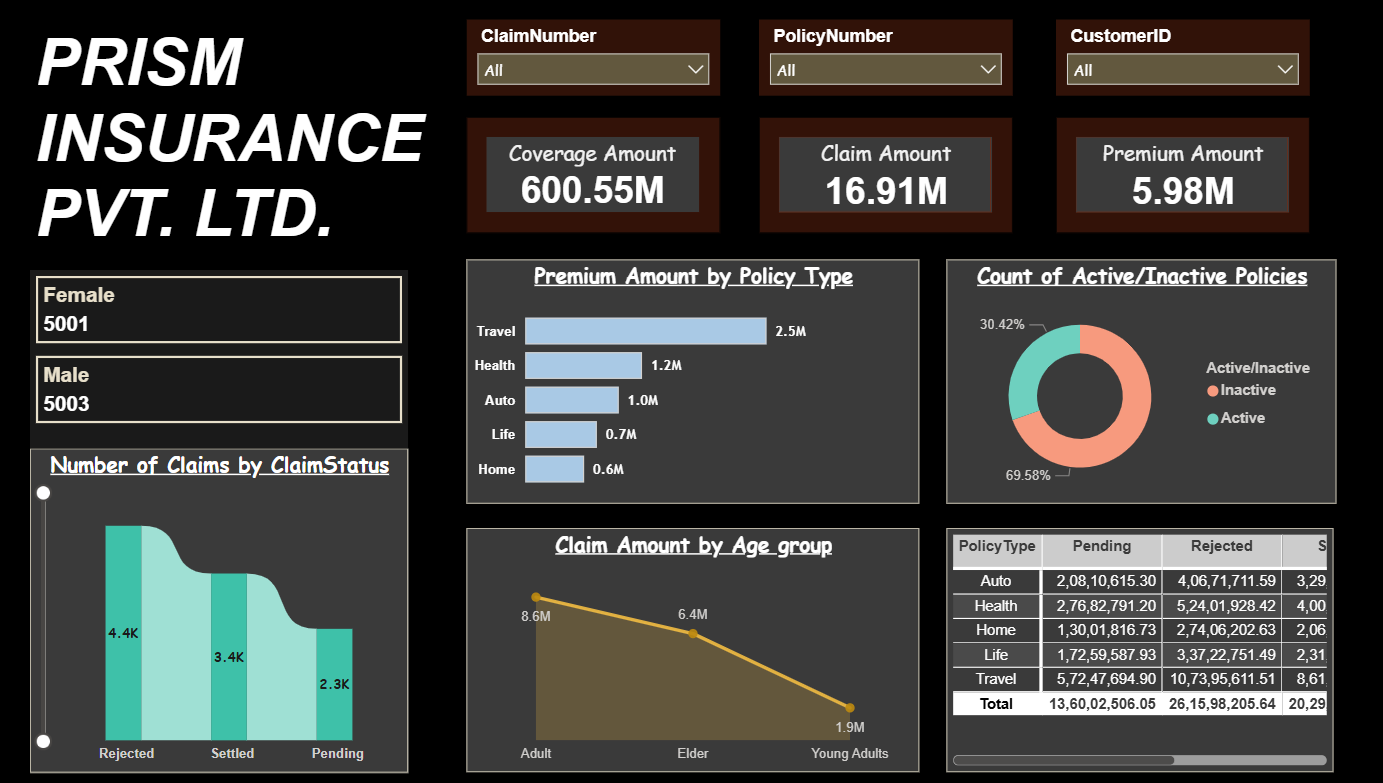

The dashboard page shown, as its layout file describes it:
{"tool":"powerbi","page":{"name":"Page 1","canvas":[1280,720],"ordinal":0},"visuals":[{"type":"slicer","fields":{"Values":["InsuranceData.ClaimNumber"]},"box":[431.5,20.4,228.9,68.5],"z":0},{"type":"slicer","fields":{"Values":["InsuranceData.CustomerID"]},"box":[962.2,20.4,228.9,68.5],"z":1000},{"type":"slicer","fields":{"Values":["InsuranceData.PolicyNumber"]},"box":[695.4,20.4,228.9,68.5],"z":2000},{"type":"textbox","box":[37.9,20.4,393.6,215.8],"z":3000},{"type":"cardVisual","fields":{"Data":["Sum(InsuranceData.CoverageAmount)"]},"box":[431.5,107.9,228.9,105],"z":4000},{"type":"cardVisual","fields":{"Data":["Sum(InsuranceData.PremiumAmount)"]},"box":[962.2,107.9,228.9,105],"z":5000},{"type":"cardVisual","fields":{"Data":["Sum(InsuranceData.ClaimAmount)"]},"box":[695.4,107.9,228.9,105],"z":6000},{"type":"multiRowCard","fields":{"Values":["InsuranceData.Gender","CountNonNull(InsuranceData.Gender)"]},"box":[37.8,246,340.6,160.9],"z":7000},{"type":"ribbonChart","title":"Number of Claims by ClaimStatus","fields":{"Category":["InsuranceData.ClaimStatus"],"Y":["CountNonNull(InsuranceData.ClaimStatus)"]},"box":[37.8,406.9,340.6,292],"z":9000},{"type":"barChart","title":"Premium Amount by Policy Type","fields":{"Y":["Sum(InsuranceData.PremiumAmount)"],"Category":["InsuranceData.PolicyType"]},"box":[431.5,236.2,408.2,220.1],"z":10000},{"type":"lineChart","title":"Claim Amount by Age group","fields":{"Category":["InsuranceData.Age group"],"Y":["Sum(InsuranceData.ClaimAmount)"]},"box":[431.5,478.2,408.2,220.1],"z":10001},{"type":"donutChart","title":"Count of Active/Inactive Policies","fields":{"Category":["InsuranceData.Active/Inactive"],"Y":["CountNonNull(InsuranceData.Active/Inactive)"]},"box":[863.7,236.6,351.4,220.3],"z":10002},{"type":"pivotTable","fields":{"Values":["Sum(InsuranceData.CoverageAmount)"],"Rows":["InsuranceData.PolicyType"],"Columns":["InsuranceData.ClaimStatus"]},"box":[863.7,478.5,348.7,220.3],"z":10003}]}

Visuals, with their boxes in screenshot pixels (x1, y1, x2, y2), scaled from the page's 1280x720 canvas onto the 1383x783 screenshot:
slicer - InsuranceData.ClaimNumber: <bbox>466, 22, 714, 97</bbox>
slicer - InsuranceData.CustomerID: <bbox>1040, 22, 1287, 97</bbox>
slicer - InsuranceData.PolicyNumber: <bbox>751, 22, 999, 97</bbox>
textbox: <bbox>41, 22, 466, 257</bbox>
cardVisual - Sum(InsuranceData.CoverageAmount): <bbox>466, 117, 714, 232</bbox>
cardVisual - Sum(InsuranceData.PremiumAmount): <bbox>1040, 117, 1287, 232</bbox>
cardVisual - Sum(InsuranceData.ClaimAmount): <bbox>751, 117, 999, 232</bbox>
multiRowCard - InsuranceData.Gender x CountNonNull(InsuranceData.Gender): <bbox>41, 268, 409, 443</bbox>
"Number of Claims by ClaimStatus" ribbonChart: <bbox>41, 443, 409, 760</bbox>
"Premium Amount by Policy Type" barChart: <bbox>466, 257, 907, 496</bbox>
"Claim Amount by Age group" lineChart: <bbox>466, 520, 907, 759</bbox>
"Count of Active/Inactive Policies" donutChart: <bbox>933, 257, 1313, 497</bbox>
pivotTable - Sum(InsuranceData.CoverageAmount) x InsuranceData.PolicyType: <bbox>933, 520, 1310, 760</bbox>
